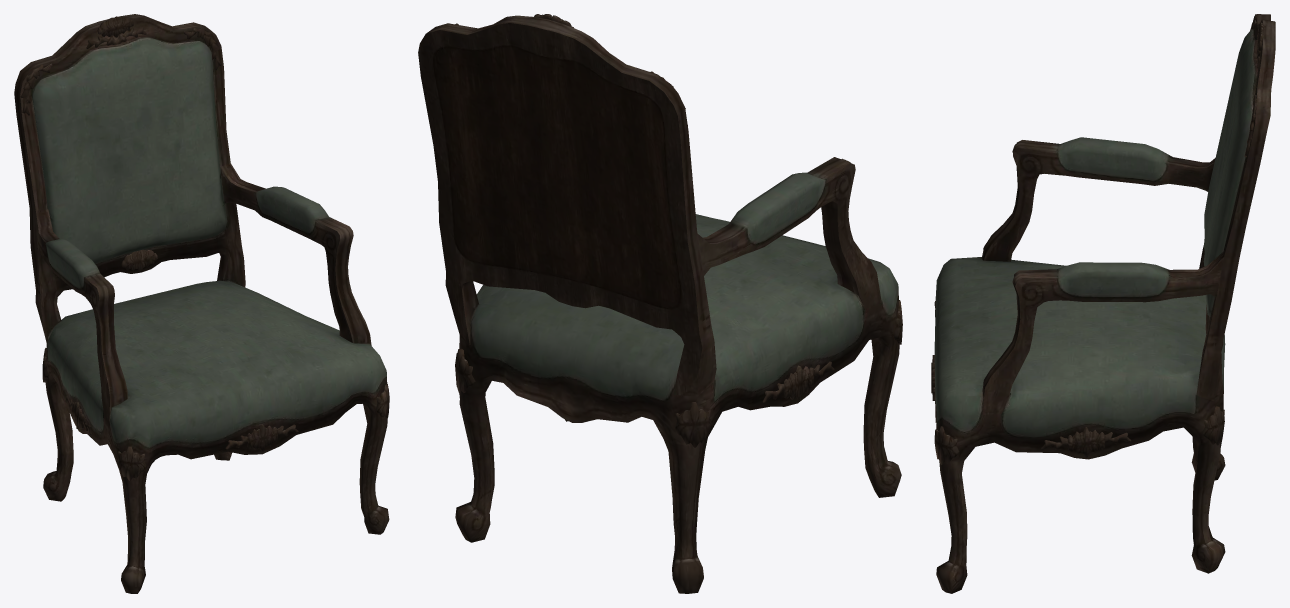
Rendered from GreenChair_01.glb.
3 views of the same model, side by side, from view 1: azimuth 30°, elevation 25°; view 2: azimuth 150°, elevation 25°; view 3: azimuth 270°, elevation 25° (orthographic). The views are drawn at different scales.
Visible parts, largest first — view 1: GreenChair_01; view 2: GreenChair_01; view 3: GreenChair_01.
Part boxes in pixels (x1,y1,x2,y2): GreenChair_01: [14, 14, 389, 593]; GreenChair_01: [418, 14, 902, 593]; GreenChair_01: [931, 14, 1275, 593].
Size of the model in its own units: 0.6731 by 1.06 by 0.6644.
1 material, 1 textured.
